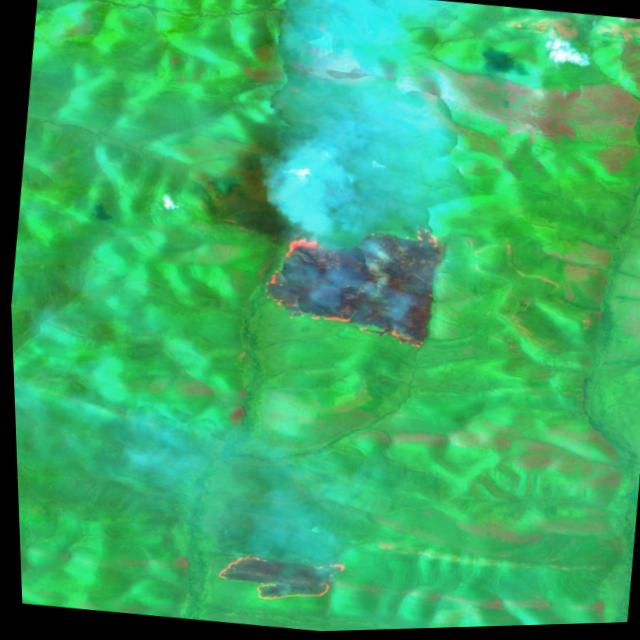fire: (251, 206, 448, 358), (203, 540, 345, 613)
